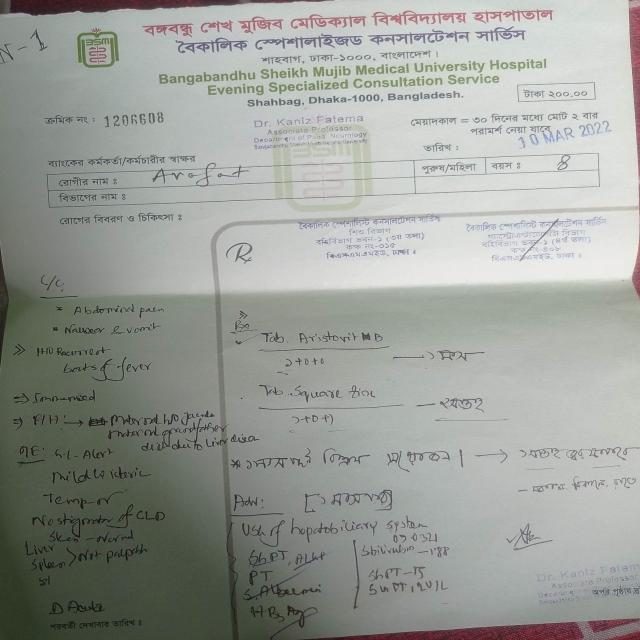Aristovit: (294, 328, 392, 348)
Square Zinc: (288, 383, 379, 405)
